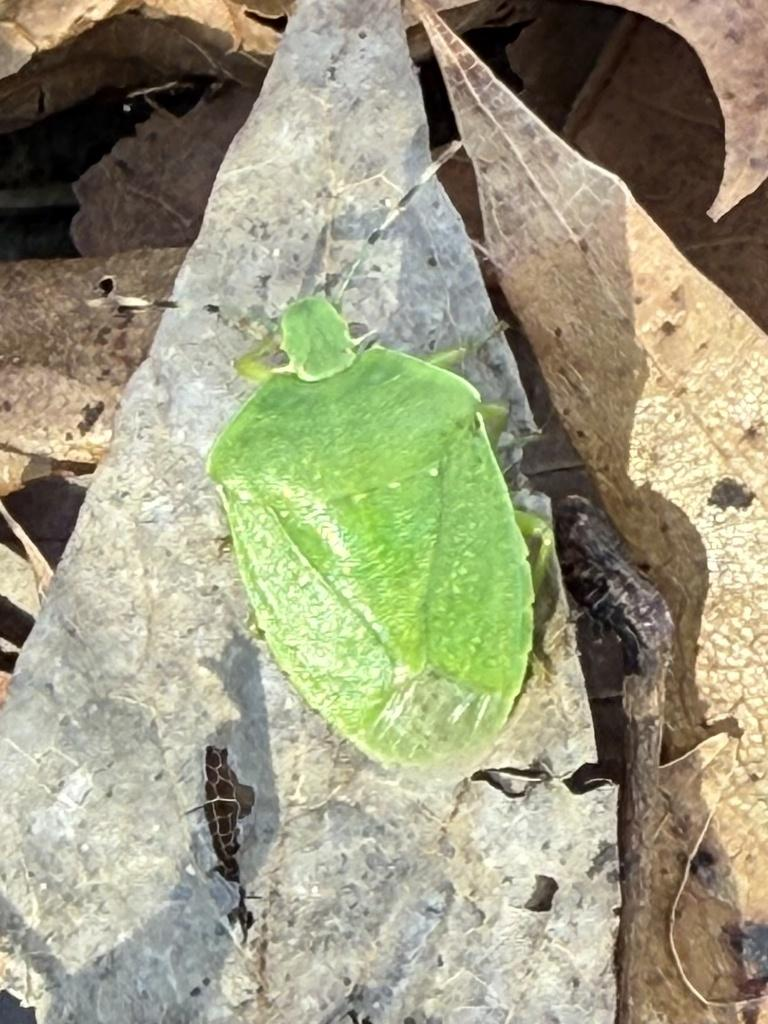stink_bugs: (25, 100, 725, 840)
